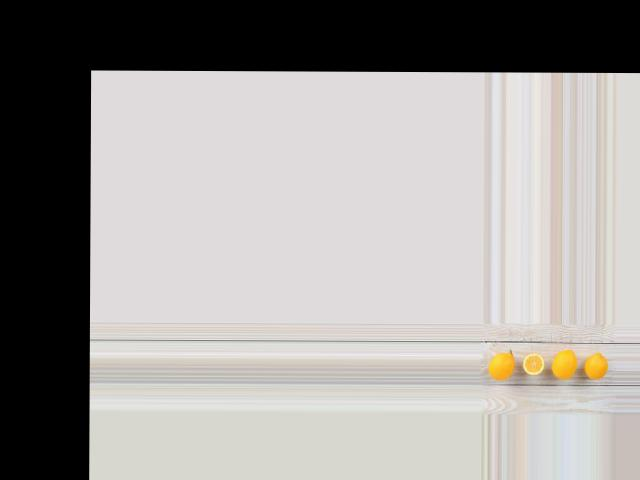lemon: (488, 347, 514, 380)
